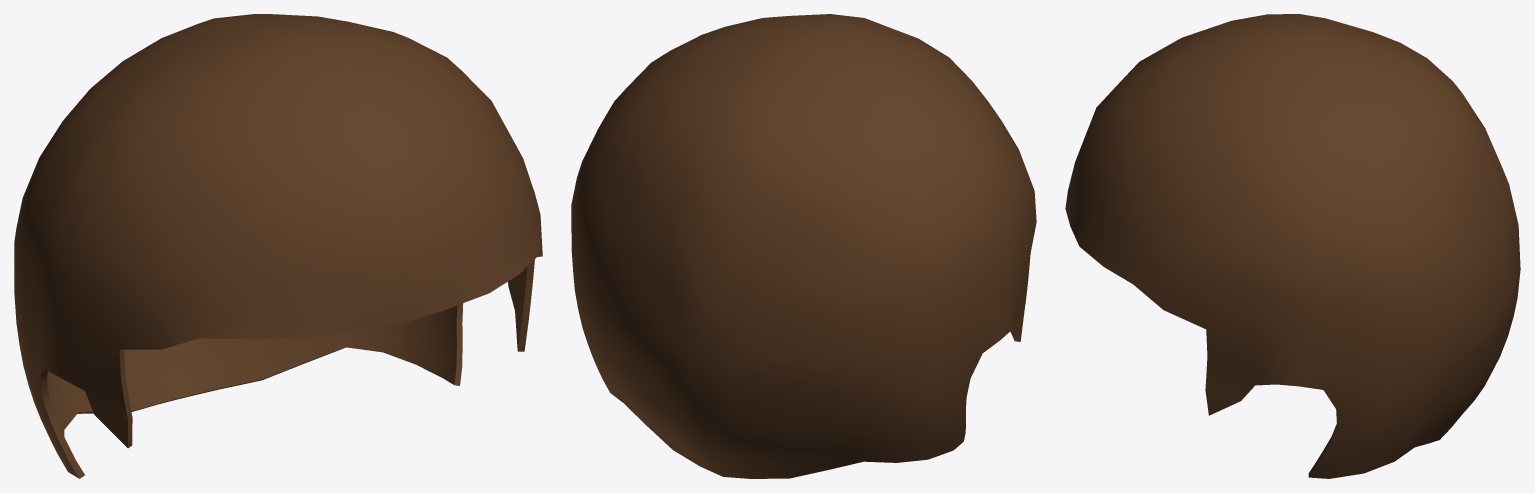
Rendered from peinadoCorto2_b.fbx.
The picture shows the model from 3 angles, left to right: view 1: azimuth 30°, elevation 25°; view 2: azimuth 150°, elevation 25°; view 3: azimuth 270°, elevation 25°; orthographic projection. The views are drawn at different scales.
Visible parts, largest first — view 1: PeinadoCorto2; view 2: PeinadoCorto2; view 3: PeinadoCorto2.
Boxes of the visible parts, x1=… form: PeinadoCorto2: x1=14, y1=14, x2=542, y2=478; PeinadoCorto2: x1=571, y1=14, x2=1036, y2=478; PeinadoCorto2: x1=1065, y1=14, x2=1520, y2=478.
Size of the model in its own units: 390 by 352 by 381.
